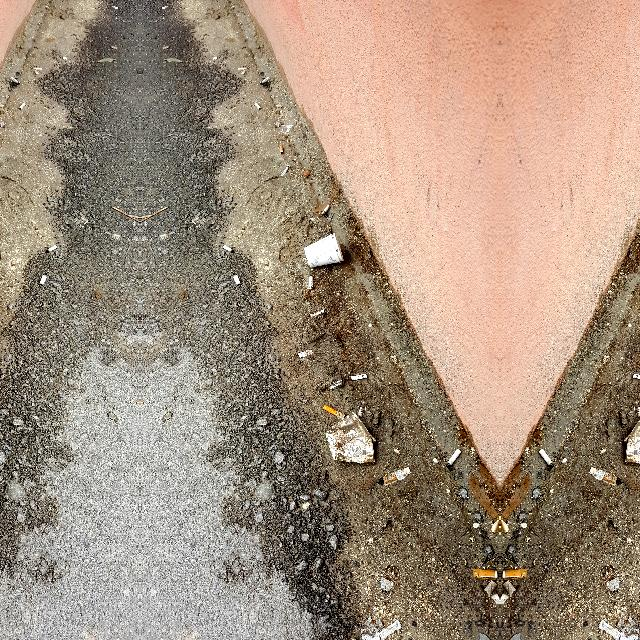Paper: (314, 402, 388, 476), (612, 402, 640, 476), (302, 232, 346, 270)
